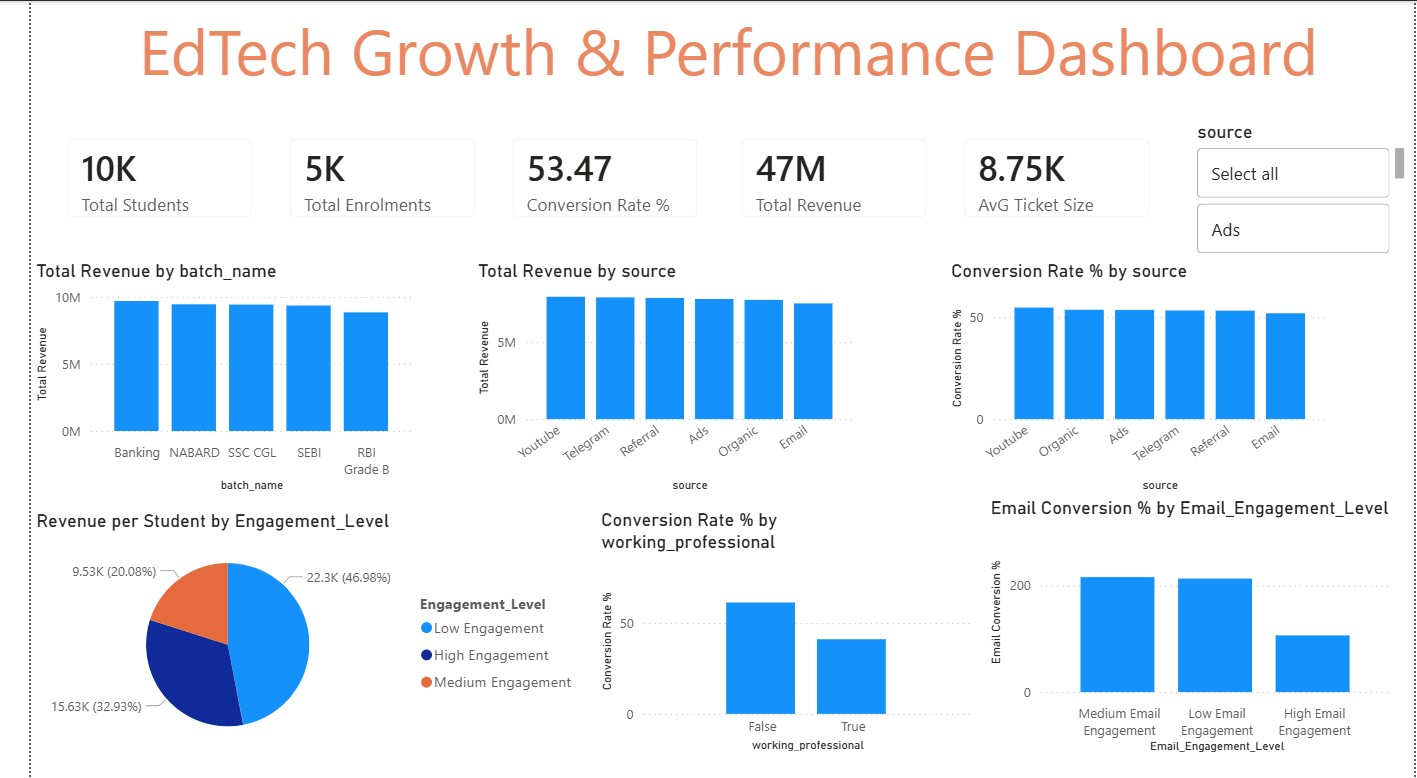

This screenshot's page, from the dashboard's own definition file:
{"tool":"powerbi","page":{"name":"Page 1","canvas":[1280,720],"ordinal":0},"visuals":[{"type":"textbox","box":[9.7,0,1270.8,110.6],"z":0},{"type":"cardVisual","fields":{"Data":["students.Total Students"]},"box":[9.9,110.8,205.9,106.9],"z":1000},{"type":"cardVisual","fields":{"Data":["students.Total Students"]},"box":[16.8,110.8,205.9,106.9],"z":2000},{"type":"cardVisual","fields":{"Data":["enrollments.Total Enrolments"]},"box":[222.7,110.8,205.9,106.9],"z":3000},{"type":"cardVisual","fields":{"Data":["enrollments.Conversion Rate %"]},"box":[428.5,110.8,205.9,106.9],"z":4000},{"type":"cardVisual","fields":{"Data":["enrollments.Total Revenue"]},"box":[640.3,110.8,205.9,106.9],"z":5000},{"type":"cardVisual","fields":{"Data":["enrollments.AvG Ticket Size"]},"box":[846.2,110.8,205.9,106.9],"z":6000},{"type":"clusteredColumnChart","fields":{"Y":["enrollments.Total Revenue"],"Category":["enrollments.batch_name"]},"box":[0,239.5,358.3,218.7],"z":7000},{"type":"clusteredColumnChart","fields":{"Y":["enrollments.Total Revenue"],"Category":["students.source"]},"box":[408.7,239.5,357.3,218.7],"z":8000},{"type":"clusteredColumnChart","fields":{"Y":["enrollments.Conversion Rate %"],"Category":["students.source"]},"box":[846.2,239.5,357.3,218.7],"z":9000},{"type":"advancedSlicerVisual","fields":{"Values":["students.source"]},"box":[1074.1,110.8,201.6,128.5],"z":10000},{"type":"pieChart","fields":{"Category":["class_engagement.Engagement_Level"],"Y":["enrollments.Revenue per Student"]},"box":[0,471.1,514.6,228.6],"z":11000},{"type":"clusteredColumnChart","fields":{"Category":["students.working_professional"],"Y":["enrollments.Conversion Rate %"]},"box":[522.3,470.5,352.5,228.7],"z":11001},{"type":"clusteredColumnChart","fields":{"Y":["email_funnel.Email Conversion %"],"Category":["email_funnel.Email_Engagement_Level"]},"box":[882.8,458.2,382,241.5],"z":11002}]}

Visuals, with their boxes in screenshot pixels (x1, y1, x2, y2), scaled from the page's 1280x720 canvas onto the 1417x778 screenshot:
textbox: [left=11, top=0, right=1416, bottom=120]
cardVisual - students.Total Students: [left=11, top=120, right=239, bottom=235]
cardVisual - students.Total Students: [left=19, top=120, right=247, bottom=235]
cardVisual - enrollments.Total Enrolments: [left=247, top=120, right=474, bottom=235]
cardVisual - enrollments.Conversion Rate %: [left=474, top=120, right=702, bottom=235]
cardVisual - enrollments.Total Revenue: [left=709, top=120, right=937, bottom=235]
cardVisual - enrollments.AvG Ticket Size: [left=937, top=120, right=1165, bottom=235]
clusteredColumnChart - enrollments.Total Revenue x enrollments.batch_name: [left=0, top=259, right=397, bottom=495]
clusteredColumnChart - enrollments.Total Revenue x students.source: [left=452, top=259, right=848, bottom=495]
clusteredColumnChart - enrollments.Conversion Rate % x students.source: [left=937, top=259, right=1332, bottom=495]
advancedSlicerVisual - students.source: [left=1189, top=120, right=1412, bottom=259]
pieChart - class_engagement.Engagement_Level x enrollments.Revenue per Student: [left=0, top=509, right=570, bottom=756]
clusteredColumnChart - students.working_professional x enrollments.Conversion Rate %: [left=578, top=508, right=968, bottom=756]
clusteredColumnChart - email_funnel.Email Conversion % x email_funnel.Email_Engagement_Level: [left=977, top=495, right=1400, bottom=756]
